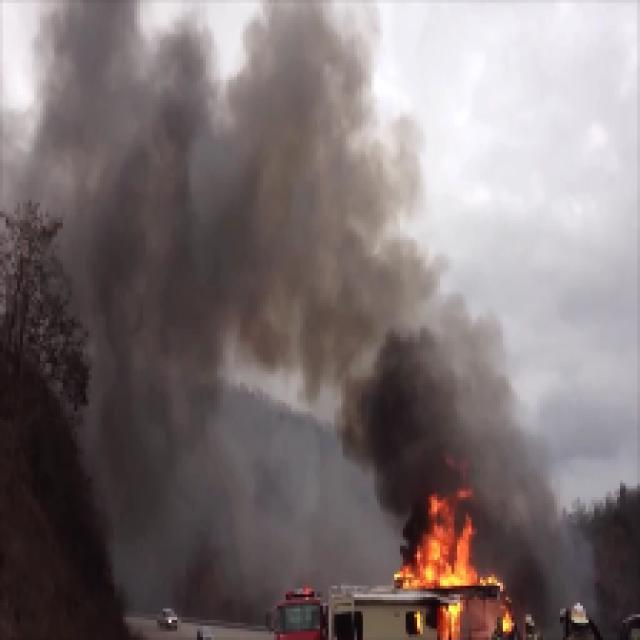Fire: (411, 492, 481, 579)
Smoke: (76, 85, 210, 400), (232, 84, 358, 346), (371, 344, 504, 492)
